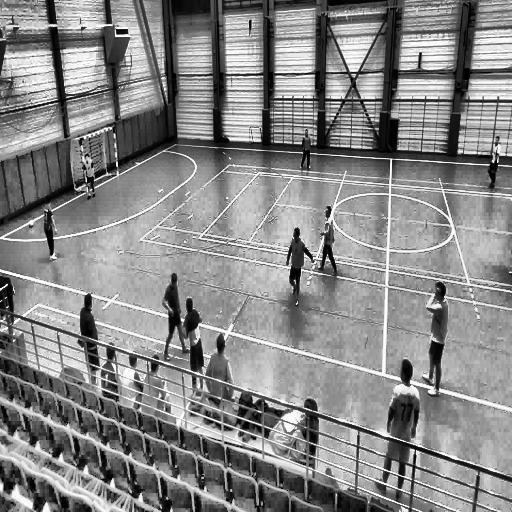ball: (29, 220, 35, 229)
player: (378, 358, 419, 502), (423, 282, 448, 394), (163, 271, 188, 360), (288, 226, 315, 306), (186, 302, 205, 392), (316, 204, 338, 275), (485, 130, 501, 190), (44, 206, 57, 260), (83, 152, 96, 201), (299, 130, 311, 172)
